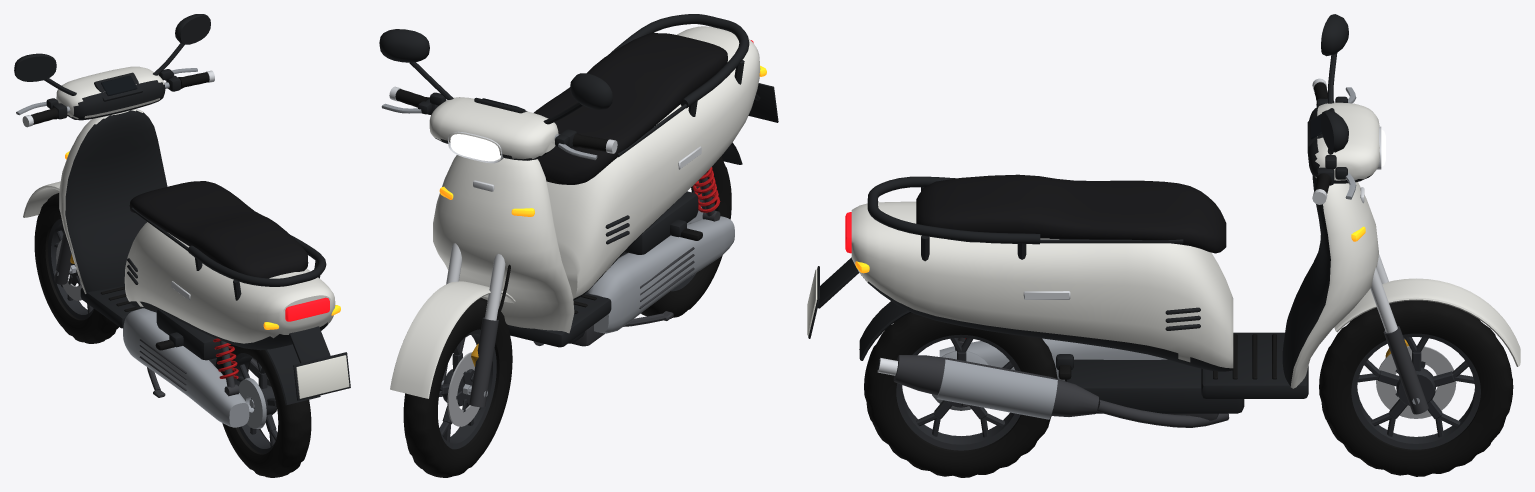
Rendered from scooter.glb.
3 renders of one model, left to right at view 1: azimuth 30°, elevation 25°; view 2: azimuth 150°, elevation 25°; view 3: azimuth 270°, elevation 25°, orthographic. The views are drawn at different scales.
Parts seen in each view (by area): view 1: Body, FrontBody, RearWheel, FrontWheel; view 2: Body, FrontBody, FrontWheel, RearWheel; view 3: Body, FrontWheel, RearWheel, FrontBody.
Boxes of the visible parts, x1,y1,x2,y2 form: Body: [59, 108, 350, 427]; FrontBody: [14, 14, 214, 284]; RearWheel: [215, 344, 311, 477]; FrontWheel: [34, 193, 118, 343]; Body: [433, 14, 778, 347]; FrontBody: [379, 29, 617, 407]; FrontWheel: [403, 298, 512, 477]; RearWheel: [625, 156, 731, 318]; Body: [807, 174, 1378, 427]; FrontWheel: [1319, 300, 1513, 476]; RearWheel: [864, 312, 1057, 477]; FrontBody: [1307, 14, 1520, 414].
Bounding box in the file's own units: 0.7852 × 1.26 × 1.99.
